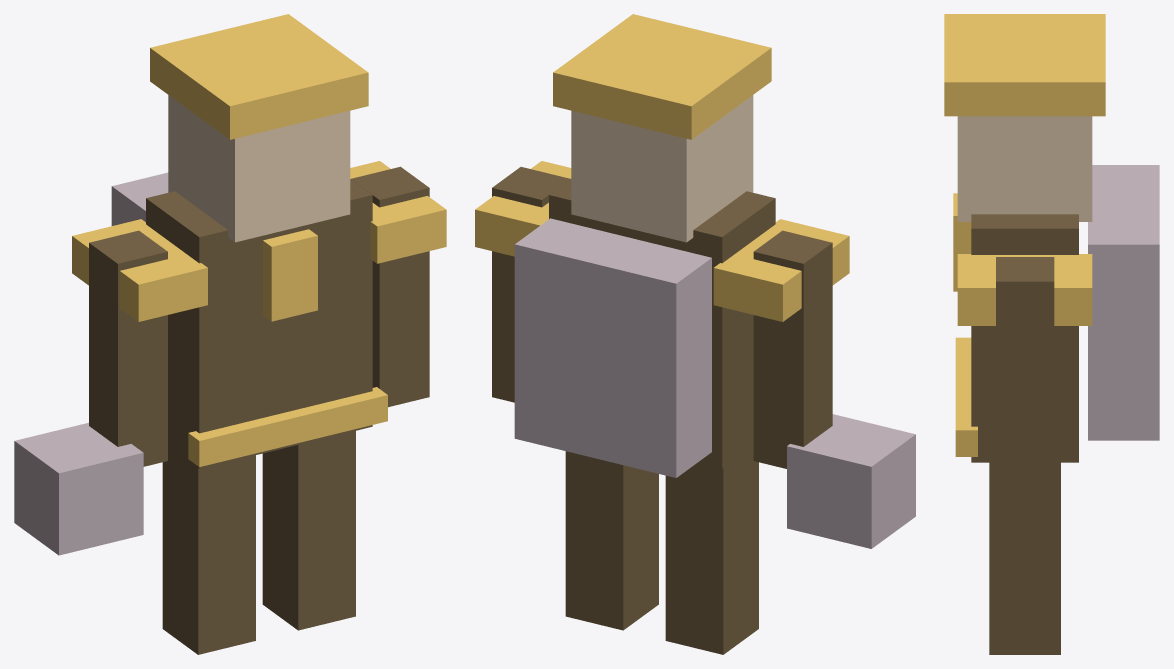
File: 15_astra_frostrelay_tamer_near.glb
3 views of the same model, side by side, from view 1: azimuth 30°, elevation 25°; view 2: azimuth 150°, elevation 25°; view 3: azimuth 270°, elevation 25° (orthographic).
Parts seen in each view (by area): view 1: Astra Frostrelay, Tamer near; view 2: Astra Frostrelay, Tamer near; view 3: Astra Frostrelay, Tamer near.
Part boxes in pixels (bbox=[...]): Astra Frostrelay, Tamer near: bbox=[14, 14, 446, 654]; Astra Frostrelay, Tamer near: bbox=[475, 14, 915, 654]; Astra Frostrelay, Tamer near: bbox=[944, 14, 1159, 654].
Size of the model in its own units: 1.08 by 1.52 by 0.5233.
